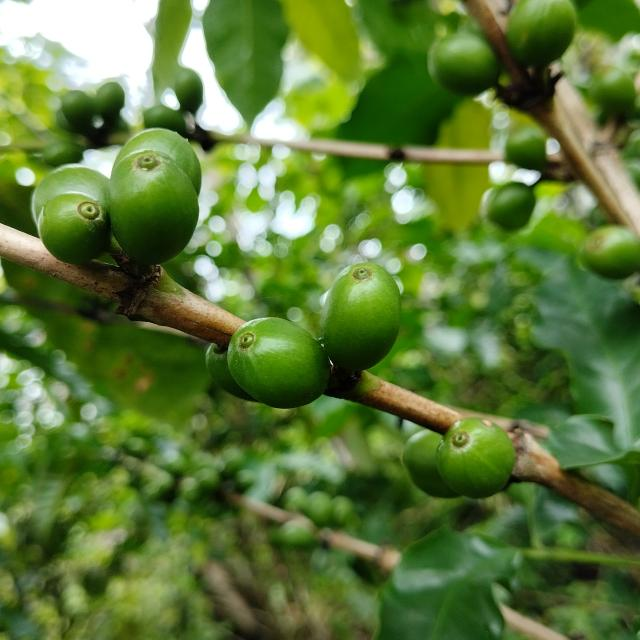green: (109, 150, 199, 264), (227, 318, 330, 409), (321, 262, 401, 371), (31, 164, 110, 264), (437, 418, 516, 499), (112, 128, 201, 194), (37, 192, 110, 264), (403, 430, 460, 499), (205, 344, 258, 402)
